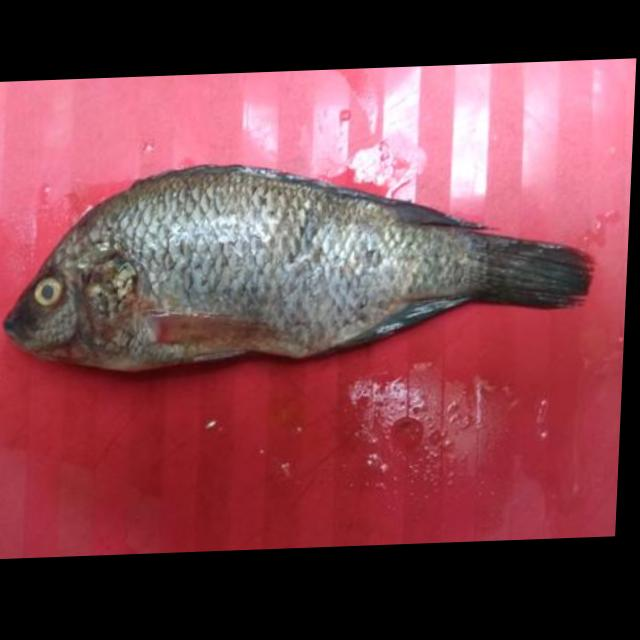Tilapia: (2, 146, 594, 377)
